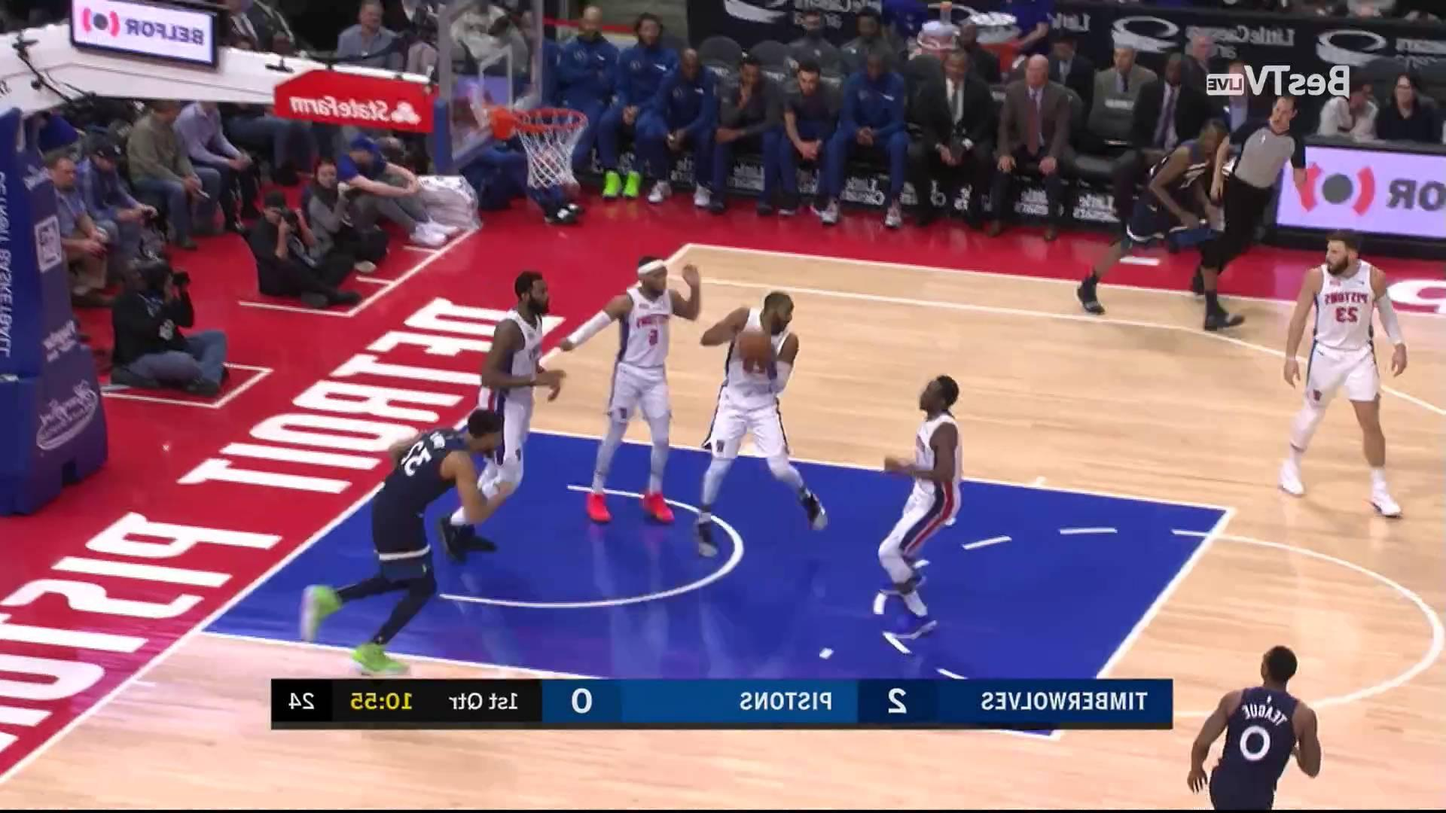basketball: (734, 327, 776, 368)
